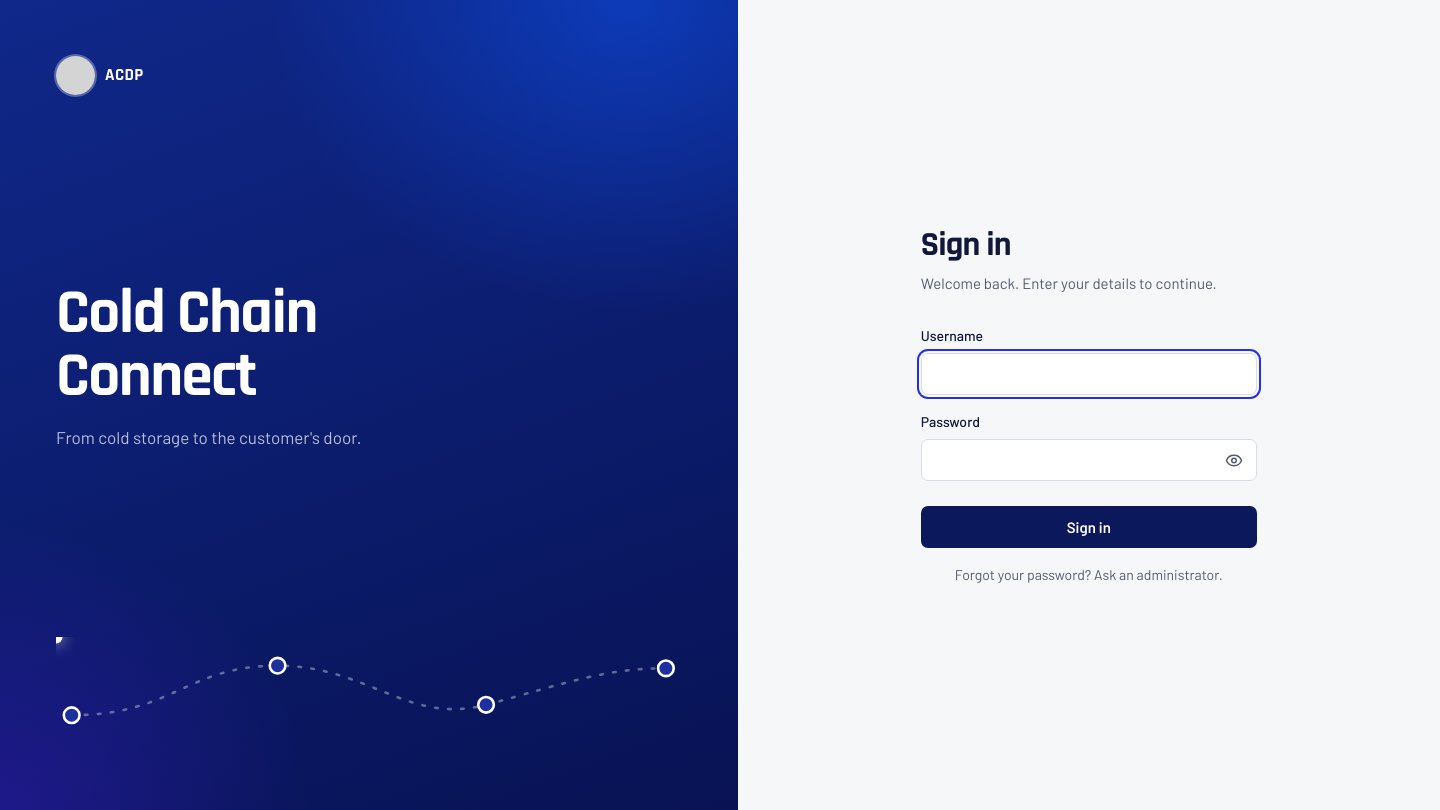
Test case: sign-in feedback › shows MFA setup database failures on the login form
Type "test-user" into the field labelled "Username" at (1089, 374), box [921, 352, 1257, 394]
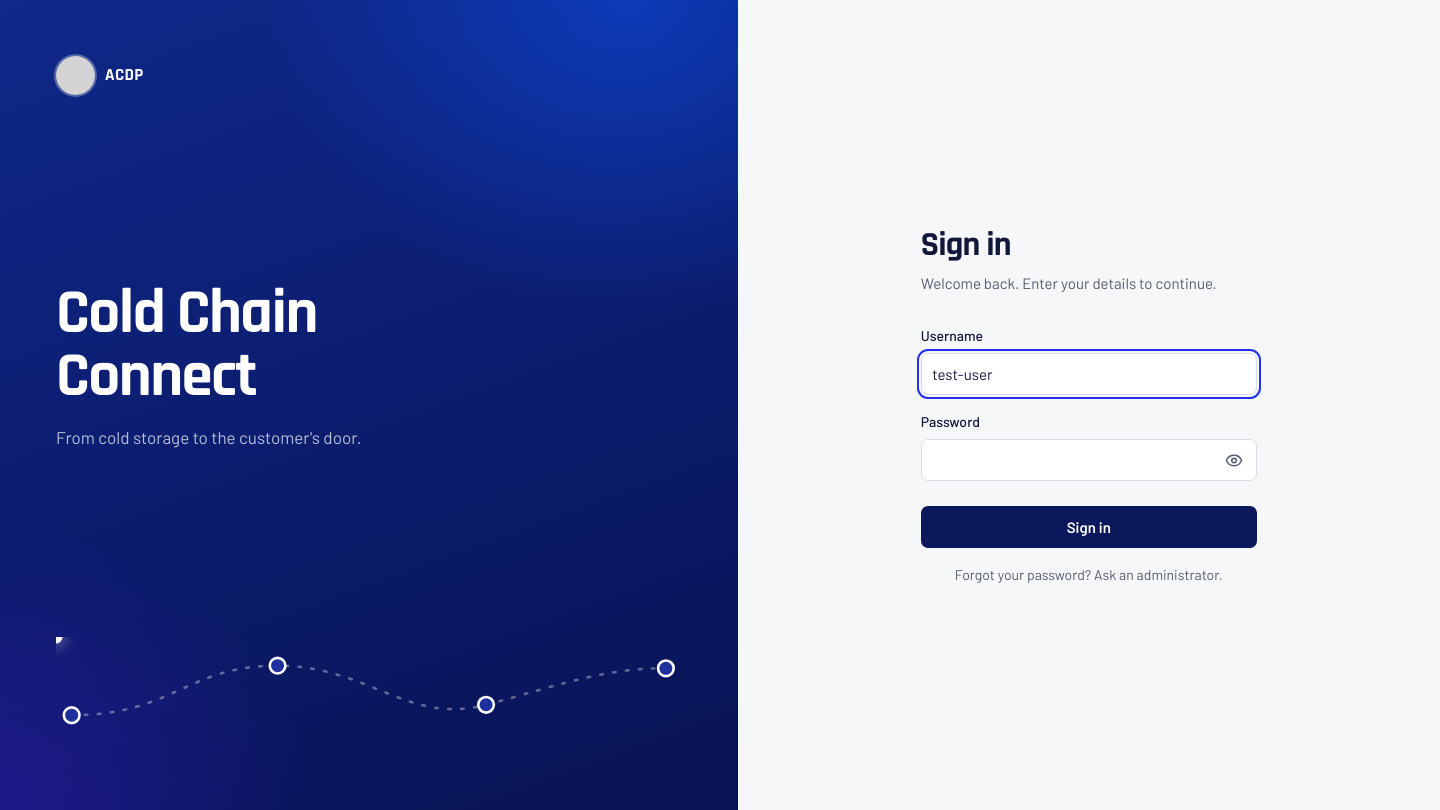
Type "test-password" into the password field labelled "Password" at (1089, 460), box [921, 439, 1257, 481]
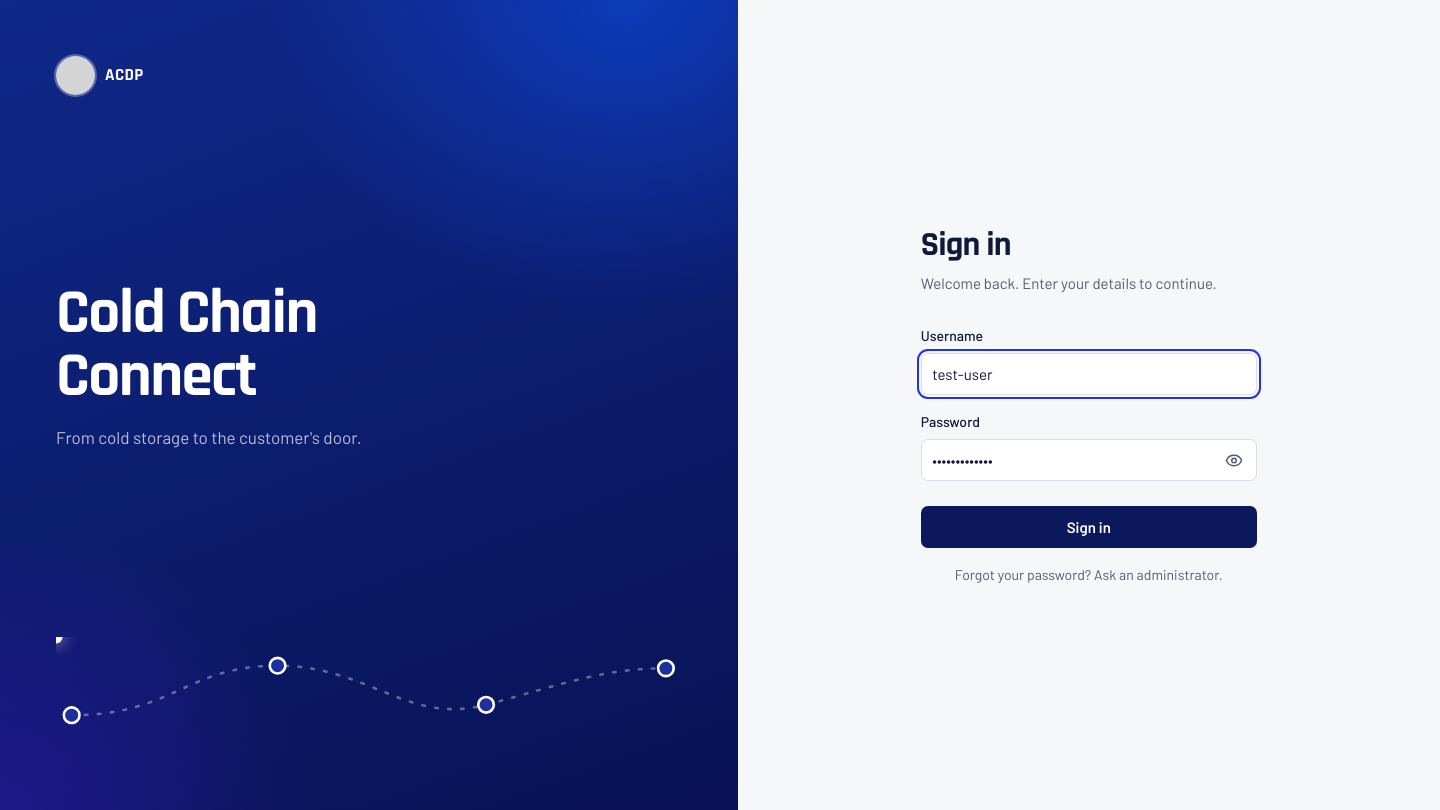
Click the button "Sign in" at (1089, 526), box [921, 506, 1257, 548]
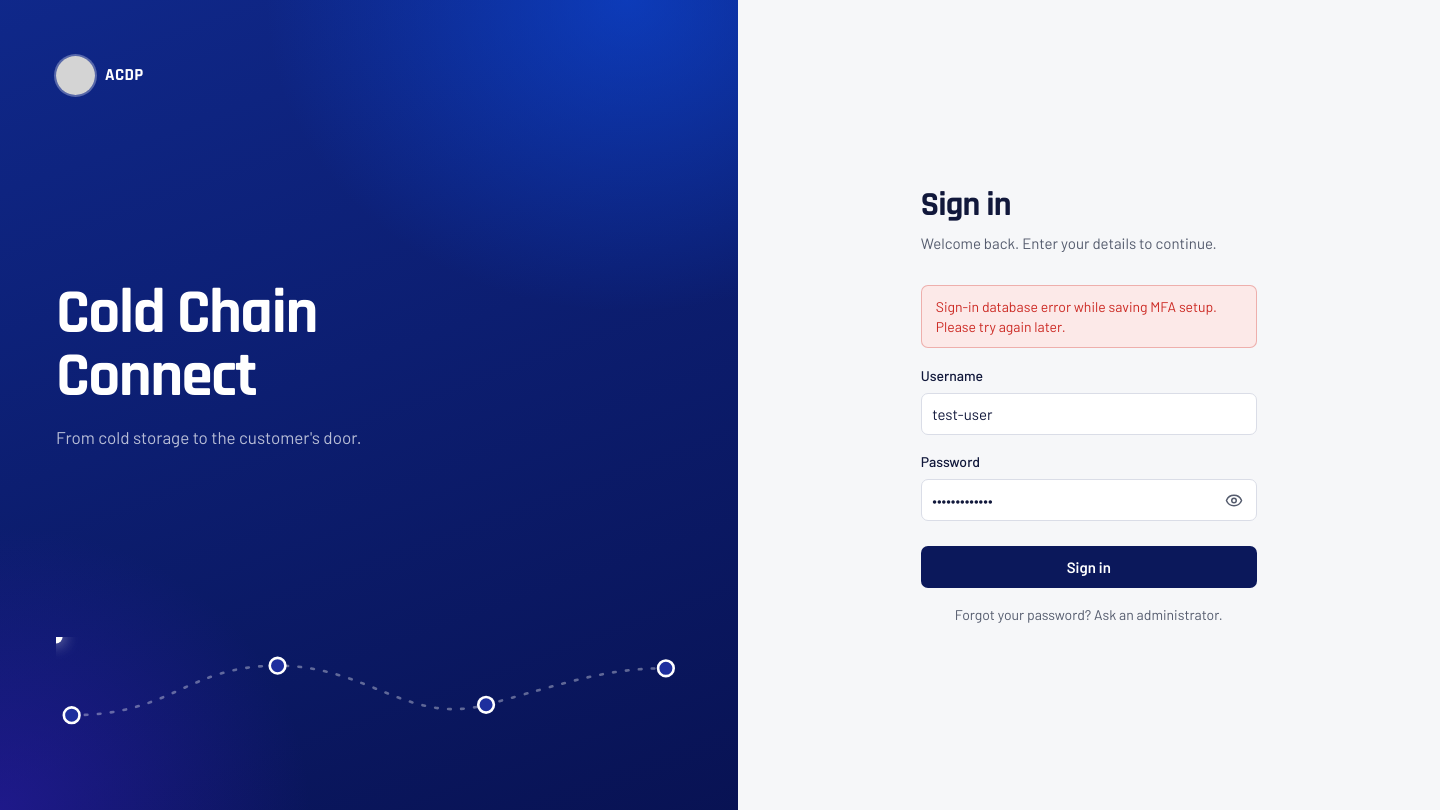
Expected: the message reads "Sign-in database error while saving MFA setup. Please try again later.", [936, 298, 1217, 335]
